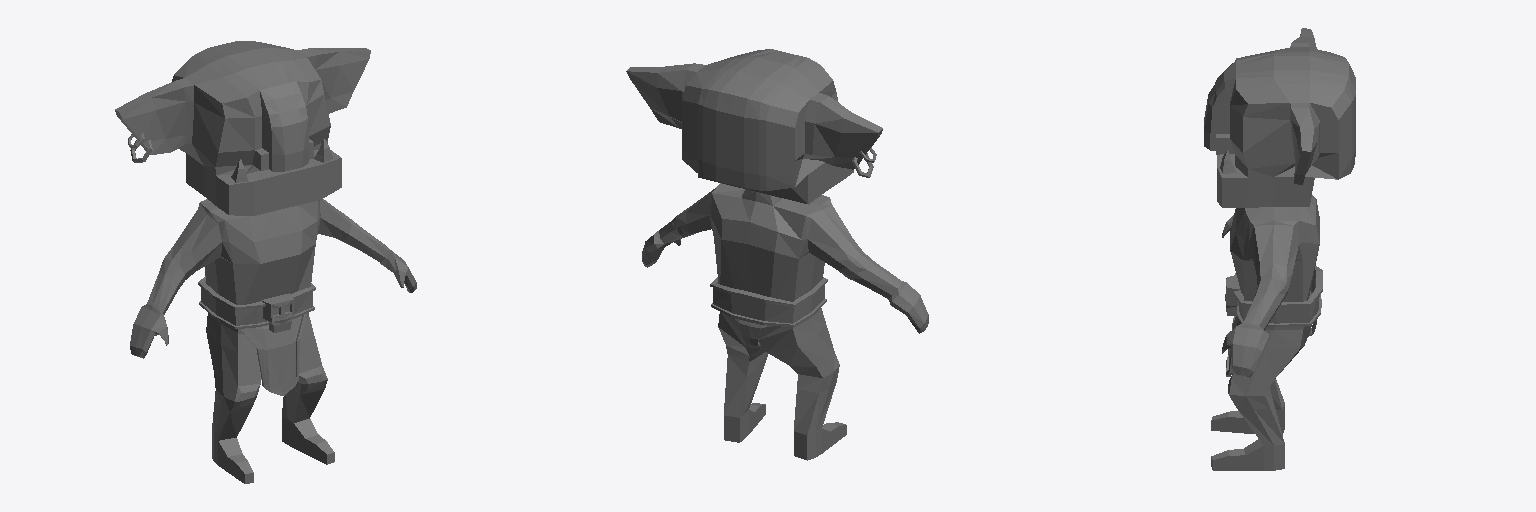
Rendered from Gobelin.obj.
The picture shows the model from 3 angles: view 1: azimuth 30°, elevation 25°; view 2: azimuth 150°, elevation 25°; view 3: azimuth 270°, elevation 25°; orthographic projection.
Visible parts, largest first — view 1: polySurface14; view 2: polySurface14; view 3: polySurface14.
Part boxes in pixels (x1,y1,x2,y2): polySurface14: (115,41,416,483); polySurface14: (626,49,928,460); polySurface14: (1204,28,1355,470).
Bounding box in the file's own units: 105 × 137 × 49.01.